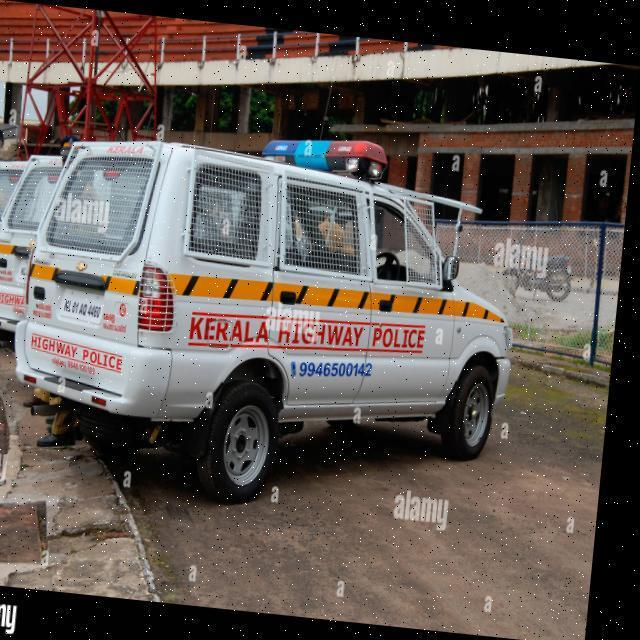Ambulance: (6, 103, 538, 522), (0, 294, 615, 632), (0, 146, 72, 344)
